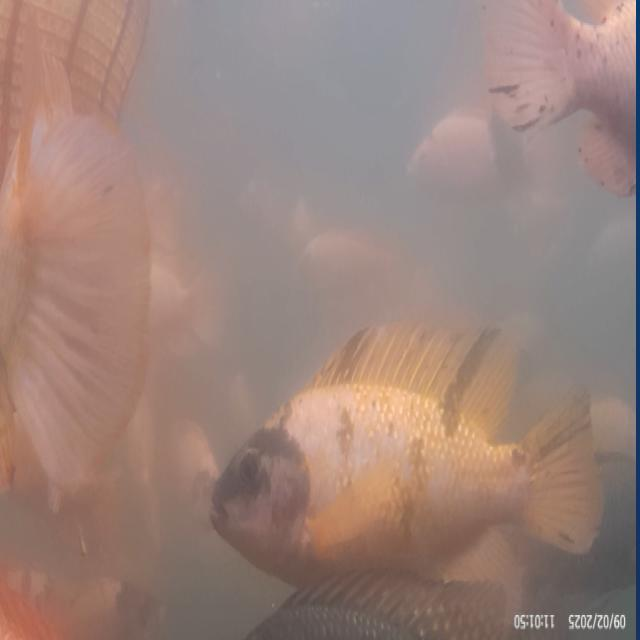ikan: (208, 318, 604, 594), (0, 95, 153, 511), (479, 0, 636, 198)
